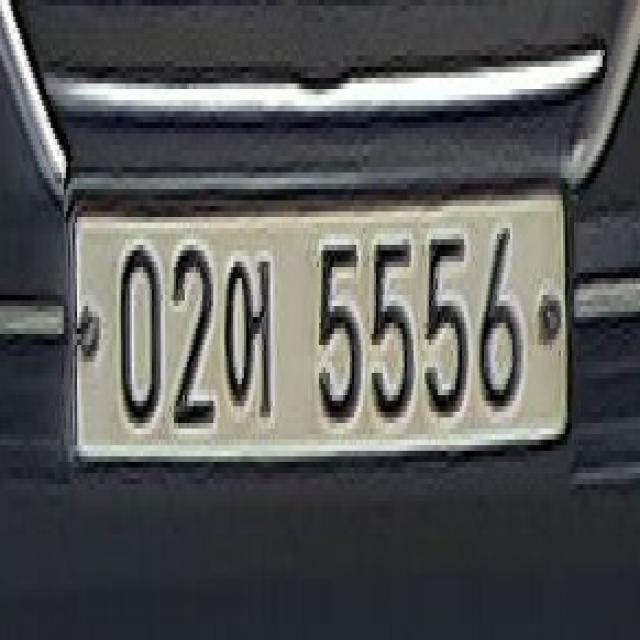0: (118, 235, 163, 440)
2: (168, 235, 220, 437)
5: (423, 211, 471, 429), (314, 230, 364, 430), (370, 228, 420, 428)
6: (476, 218, 534, 409)
eo: (223, 237, 293, 441)
license_plate: (59, 157, 584, 484)
